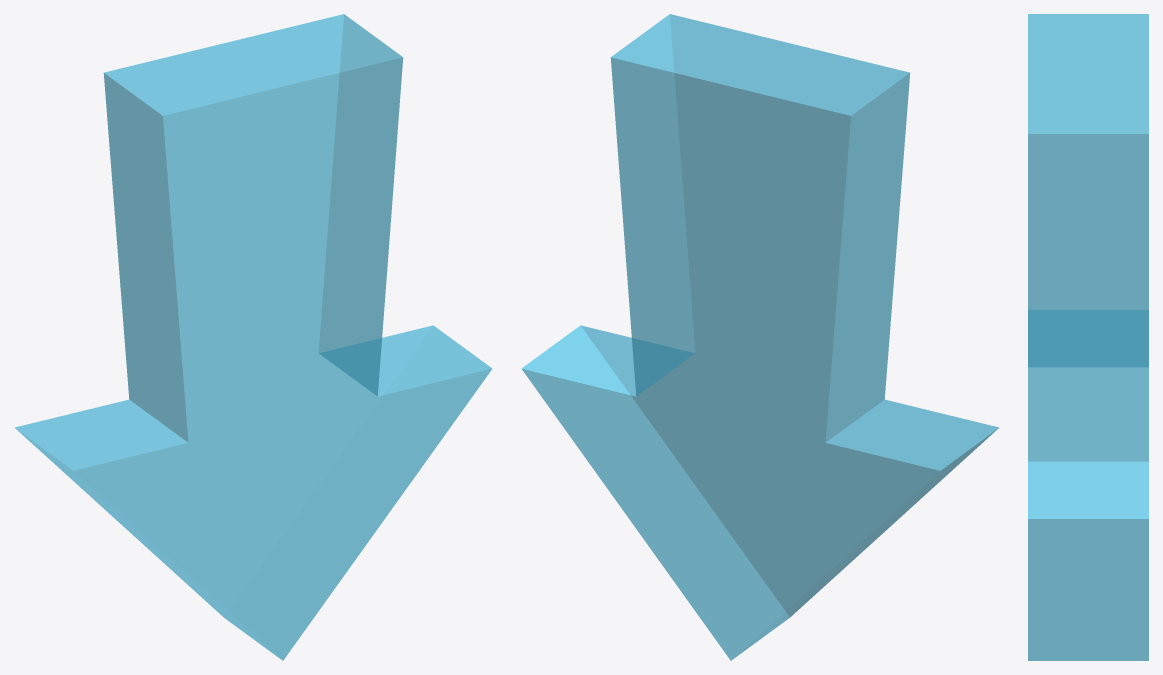
Rendered from #06_Obj_Arrow.FBX.
3 views of the same model, side by side, from view 1: azimuth 30°, elevation 25°; view 2: azimuth 150°, elevation 25°; view 3: azimuth 270°, elevation 25° (orthographic). The views are drawn at different scales.
Visible parts, largest first — view 1: #06_Obj_Arrow; view 2: #06_Obj_Arrow; view 3: #06_Obj_Arrow.
Part boxes in pixels (x1=…): #06_Obj_Arrow: x1=14, y1=14, x2=492, y2=660; #06_Obj_Arrow: x1=521, y1=14, x2=999, y2=660; #06_Obj_Arrow: x1=1028, y1=14, x2=1148, y2=660.
Size of the model in its own units: 409 by 100 by 535.
